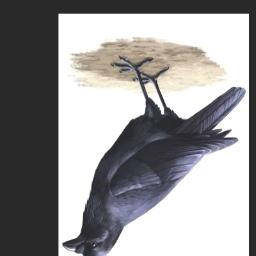Crow: (62, 52, 246, 256)
